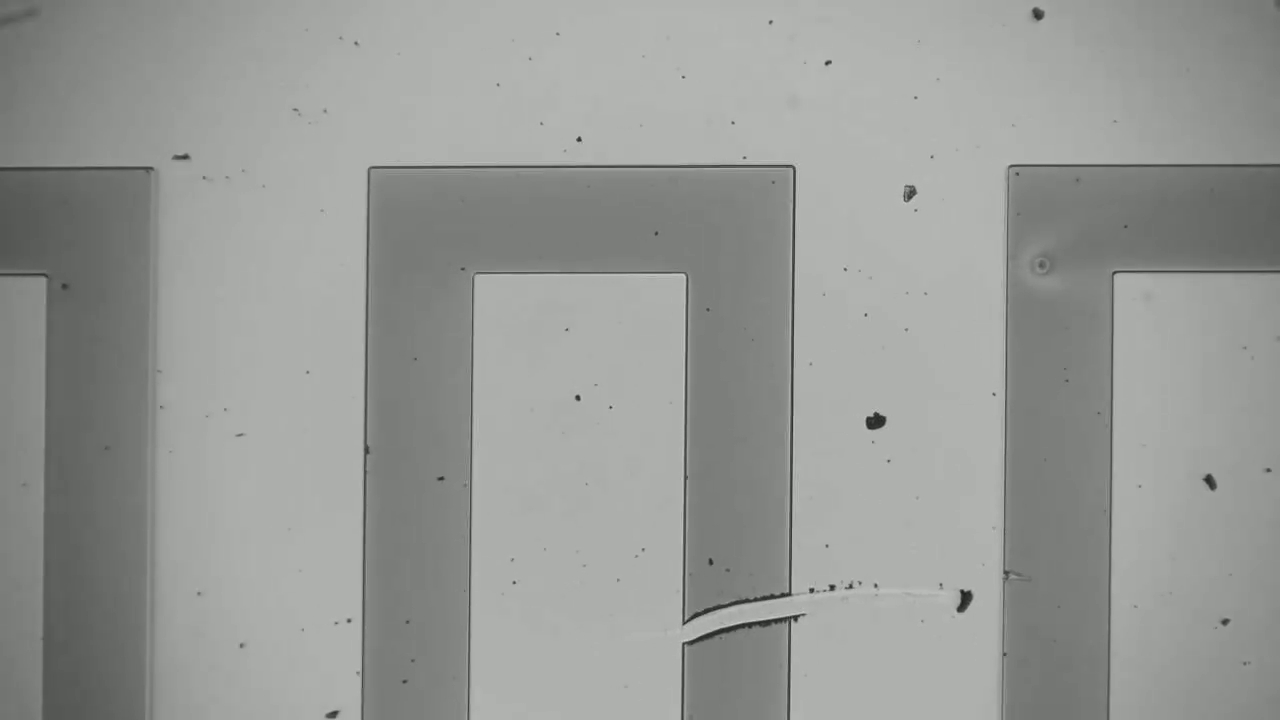Short_circuit: (653, 564, 826, 663)
